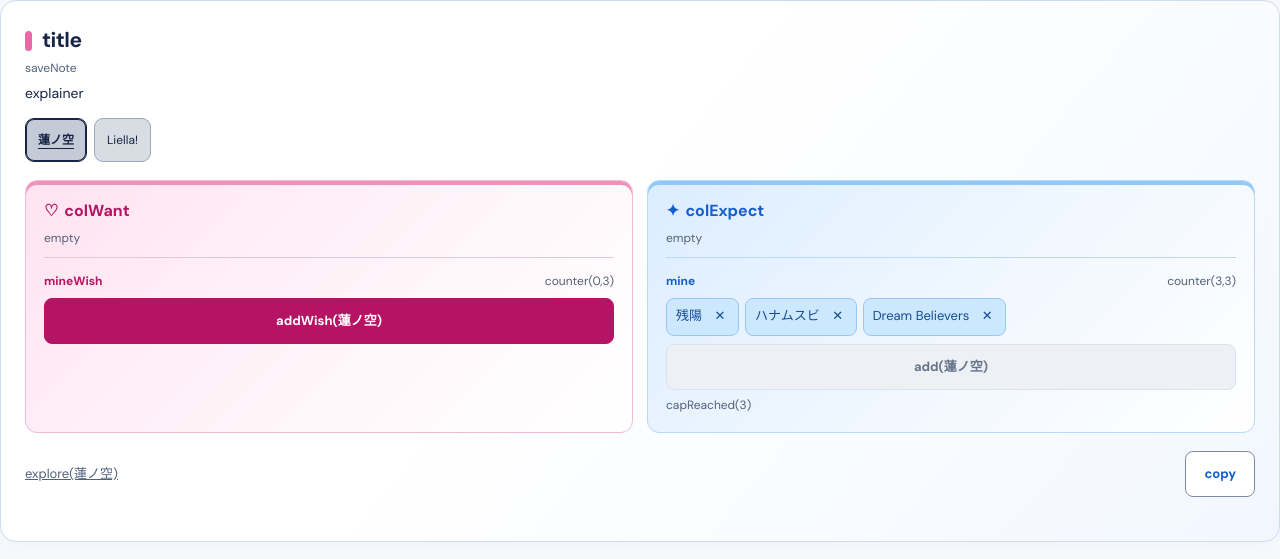
<FanBoardSection> my picks › the cap is per group: another group's chip starts at 0/3
This screenshot has width=1280, height=559.
Expected: the button "add(蓮ノ空)" is shown, [666,344,1236,390]
Click the tab "Liella!". click: {"x": 122, "y": 140}
box: [94,118,151,162]
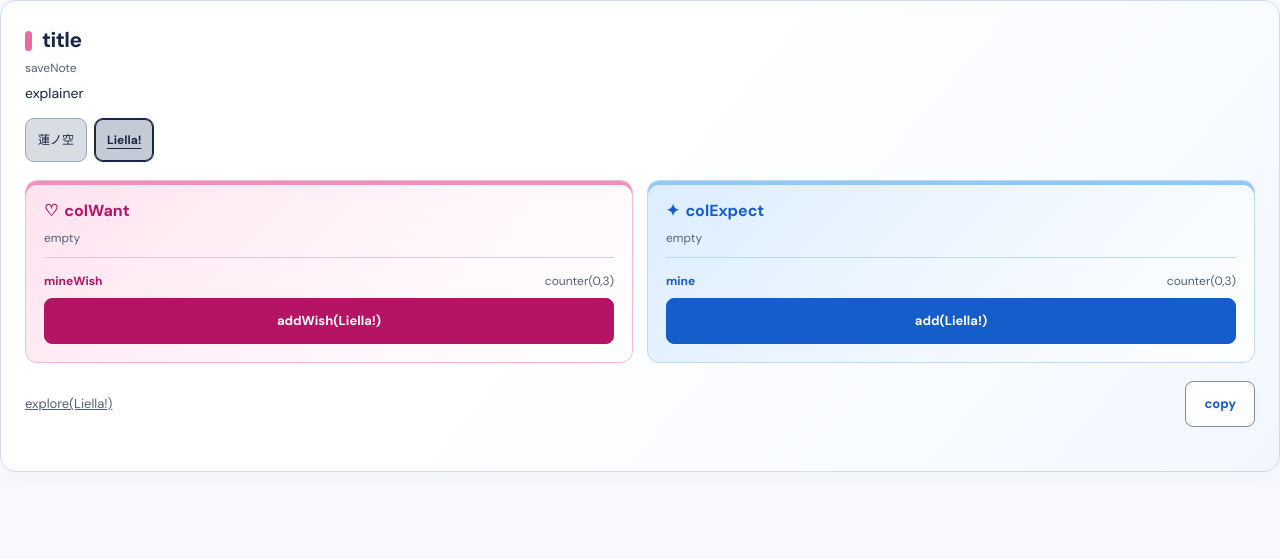
Expected: the text "counter(0,3)" in the row of "mineWish" is shown, [545,272,614,288]
Now the button "add(Liella!)" is enabled, box [666,298,1236,344]
